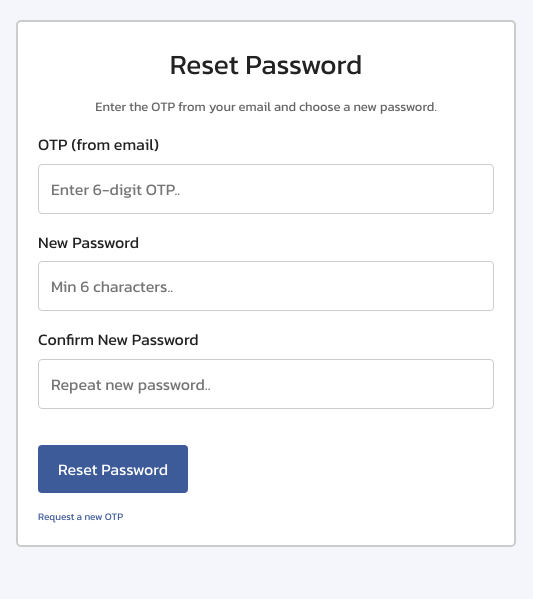
Test: ResetPassword — validation › clears field error when user types
Click the button showing "Reset Password" at (113, 469), box [38,445,188,493]
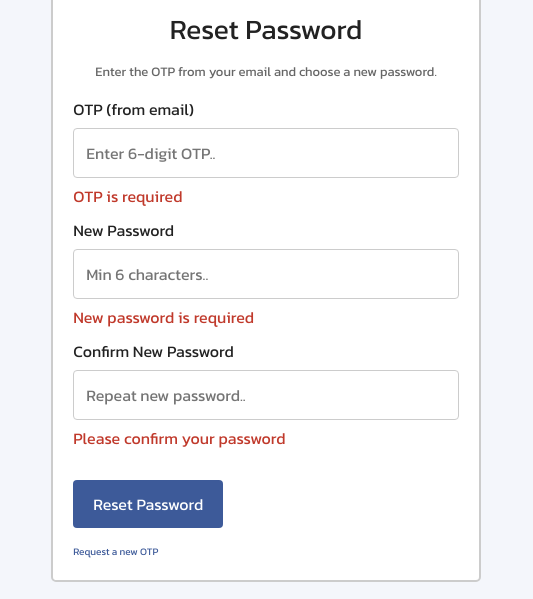
expect the text "OTP is required" is shown: met, box [73,184,182,208]
Type "1" into the field with placeholder "Enter 6-digit OTP.." at (266, 153), box [73,128,459,178]
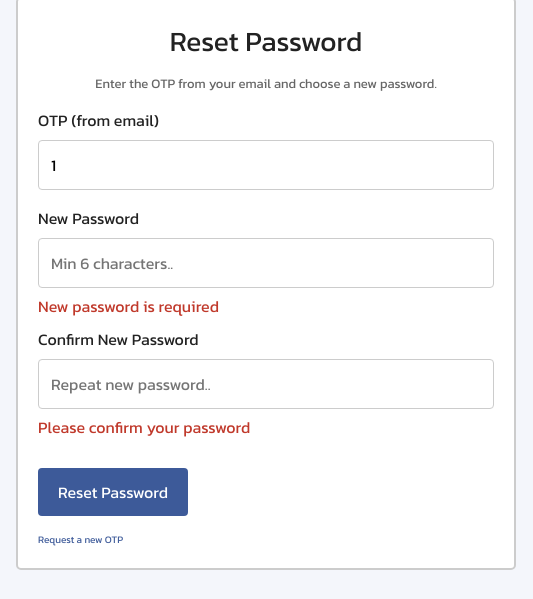
expect the text "OTP is required" is gone: met
